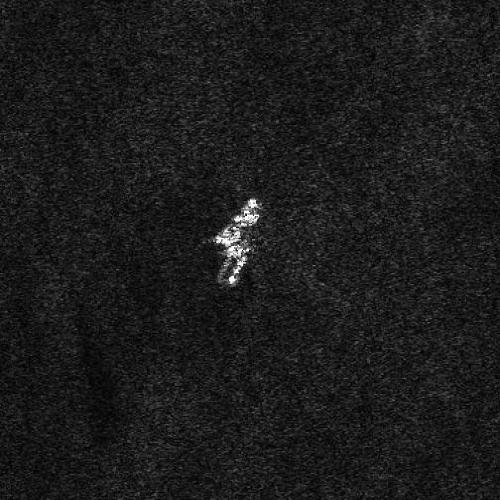ship: (212, 197, 260, 247), (214, 238, 250, 291)
